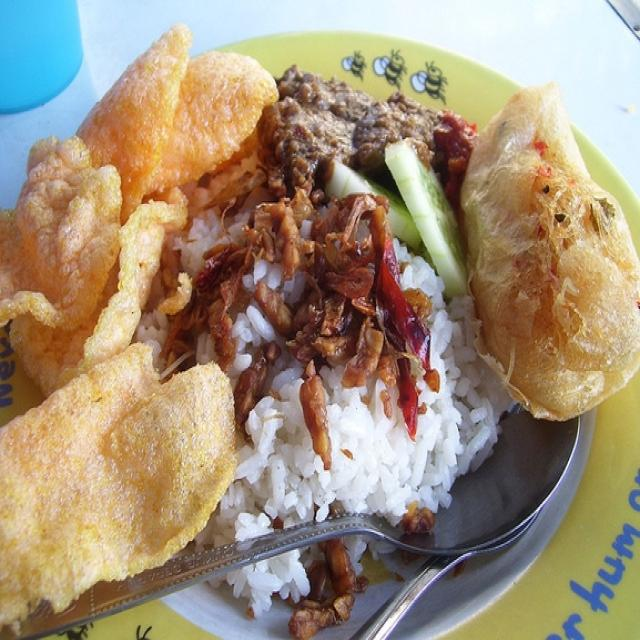米饭主食: (33, 42, 569, 631)
